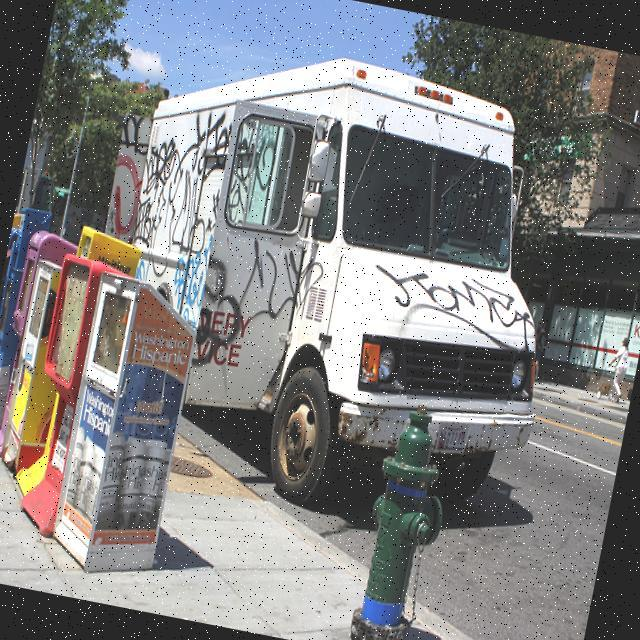fire_hydrant: (345, 400, 460, 640)
